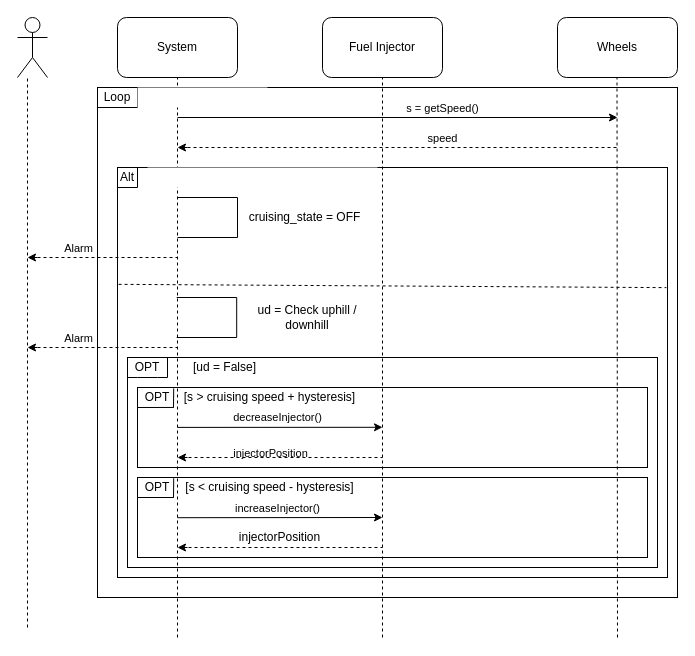
Image size: 695x656. Some labels were removed from this diagram. The shapes that lost their labels are listed below. From the top down, each one's centre as x and y in pixels, then its label:
the point at 202,97: [cruising_state = ON]
the point at 262,177: [speed < 30 || speed > 220] "Out of range"
